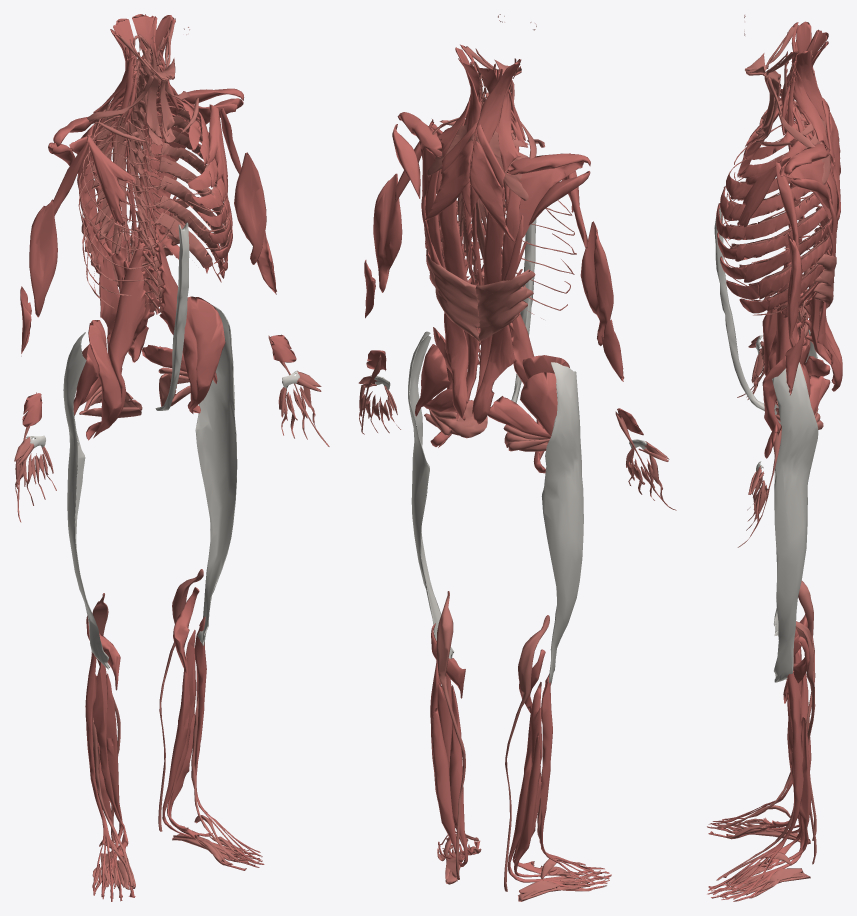
The model's file is musculos-prof.l.glb.
The picture shows the model from 3 angles, left to right: view 1: azimuth 30°, elevation 25°; view 2: azimuth 150°, elevation 25°; view 3: azimuth 270°, elevation 25°; orthographic projection.
Parts seen in each view (by area): view 1: capa; view 2: capa; view 3: capa.
Part boxes in pixels (x1,y1,x2,y2): capa: (14, 14, 329, 901); capa: (358, 14, 676, 901); capa: (707, 15, 842, 901).
Size of the model in its own units: 0.6147 by 1.6 by 0.2355.
